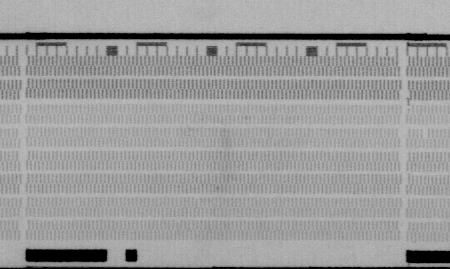Broken hole: (420, 128, 432, 140)
Oblique printing: (403, 91, 414, 107)
